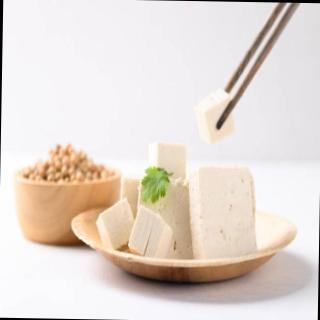Tahu: (91, 135, 265, 272), (190, 86, 240, 152)
